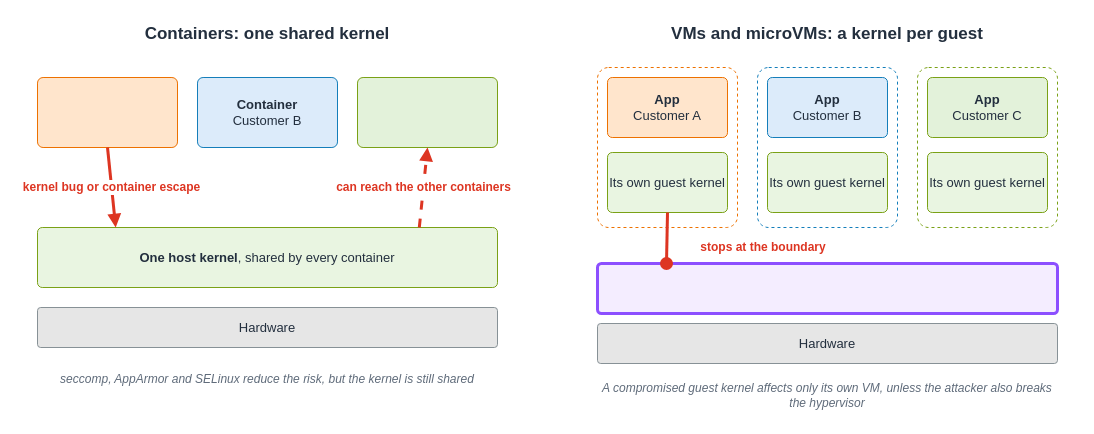
Some shapes in this 1094 by 434 pixel diagram are drawn without their labels. The shapes that lost their labels are listed below. From the top down, each one's centre as x and y in pixels, then its label:
At point 107,112: "Container Customer A".
At point 427,112: "Container Customer C".
At point 827,288: "Hypervisor (for example KVM + Firecracker): the virtualization boundary".
